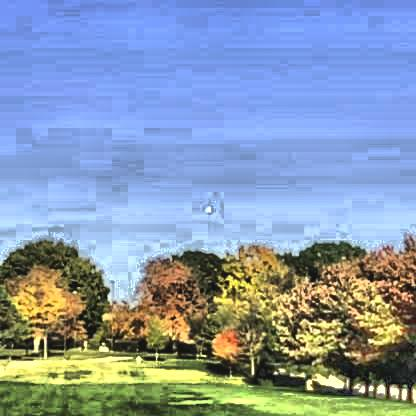golfball: (201, 202, 213, 212)
